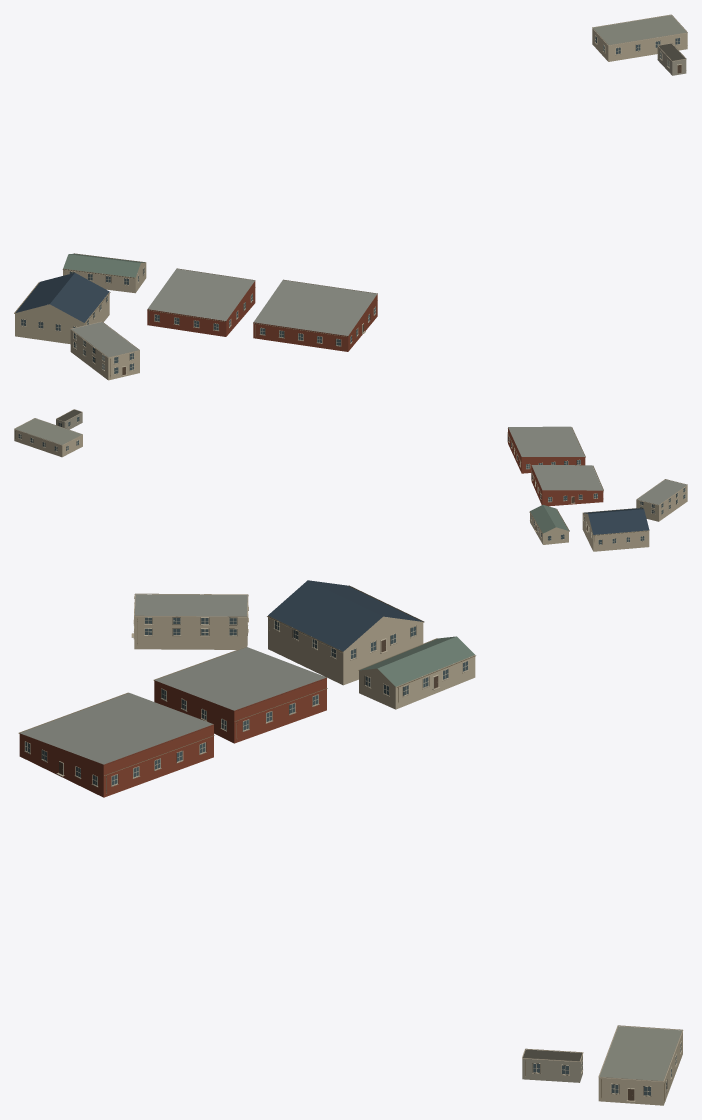
The picture shows the model from 3 angles, top to bottom: view 1: azimuth 30°, elevation 25°; view 2: azimuth 150°, elevation 25°; view 3: azimuth 270°, elevation 25°; orthographic projection. The views are drawn at different scales.
Visible parts, largest first — view 1: -7_1_271332435_0, -7_1_271332438_1; view 2: -7_1_271332435_0, -7_1_271332438_1; view 3: -7_1_271332435_0, -7_1_271332438_1, -7_1_-10075371880_64.
Part boxes in pixels (<box>): -7_1_271332435_0: <box>14,14,687,377</box>; -7_1_271332438_1: <box>15,28,687,380</box>; -7_1_271332435_0: <box>14,409,687,545</box>; -7_1_271332438_1: <box>14,429,687,551</box>; -7_1_271332435_0: <box>18,580,683,1102</box>; -7_1_271332438_1: <box>134,615,682,1105</box>; -7_1_-10075371880_64: <box>522,1055,582,1082</box>.
Bounding box in the file's own units: 219 × 15.15 × 113.
